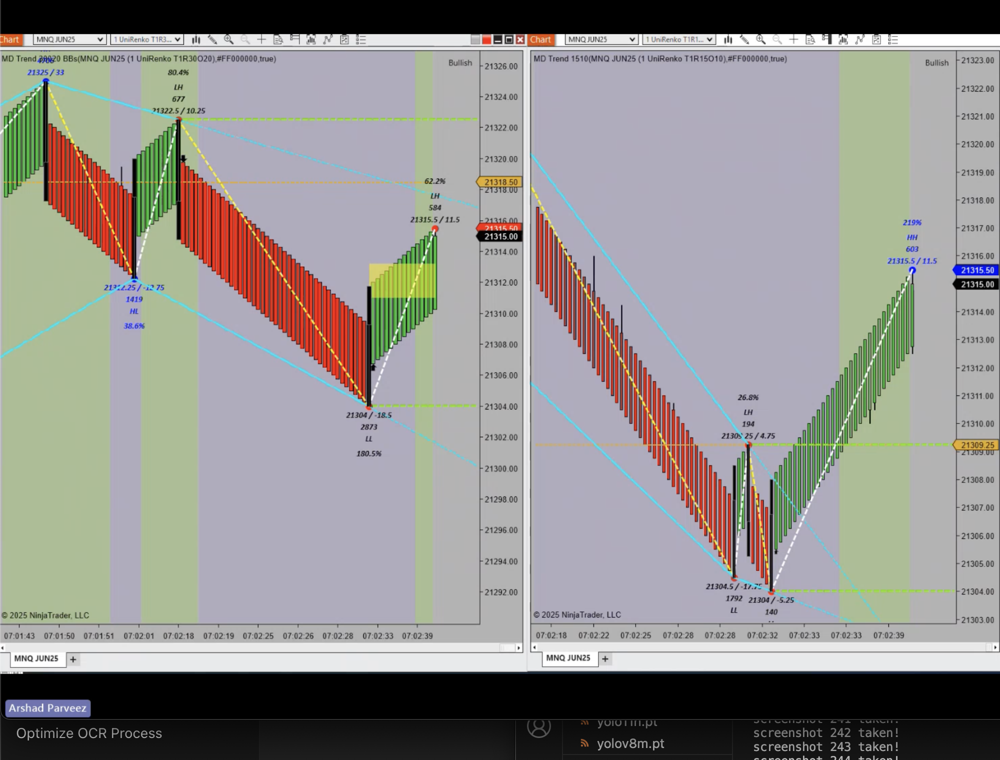HH: (902, 229, 927, 245)
HL: (123, 302, 148, 322)
LH: (737, 402, 763, 424), (167, 76, 195, 96), (424, 189, 447, 203)
LL: (360, 429, 381, 449), (722, 602, 742, 619)
